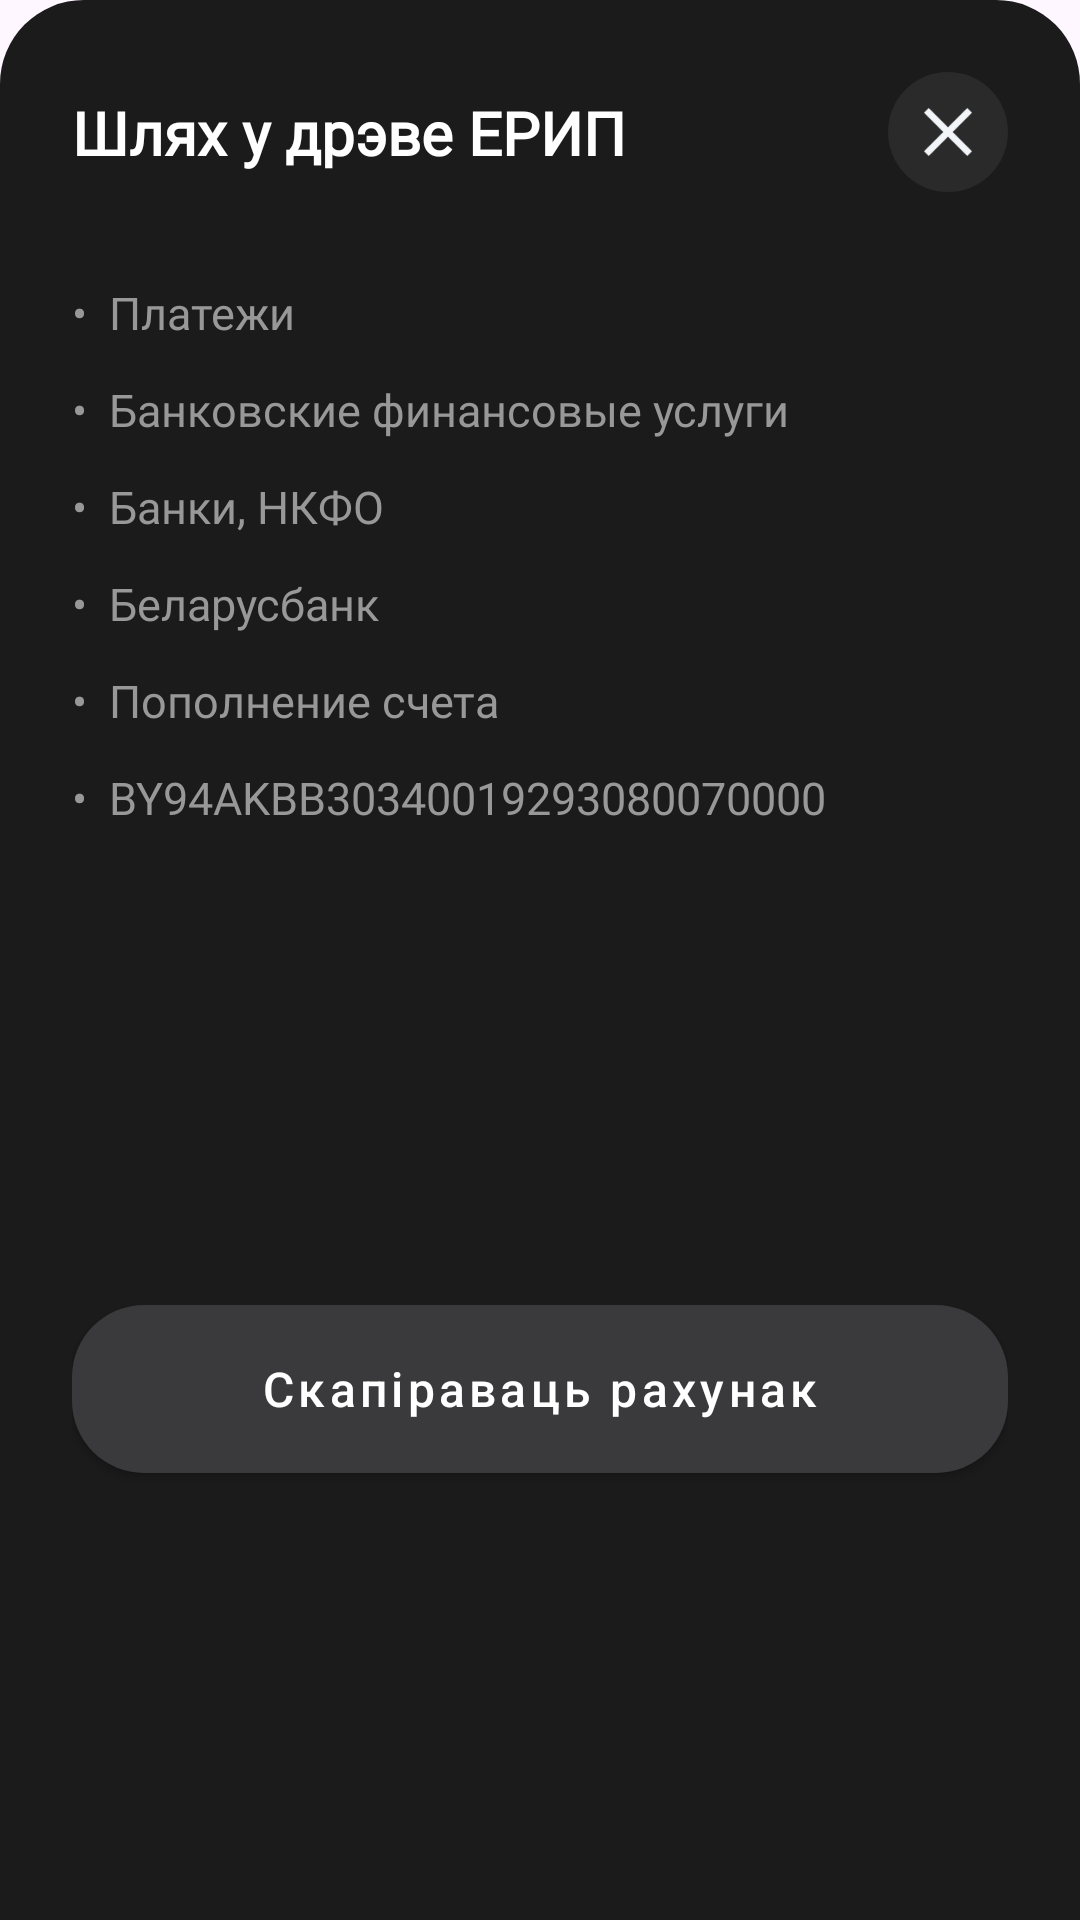

Named icons in this screenshot (1080*1920) and their bounding boxes, detection(x1, y1, x2, y2):
close: detection(888, 72, 1008, 192)
